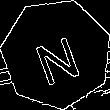N_N: (29, 23, 84, 84)
